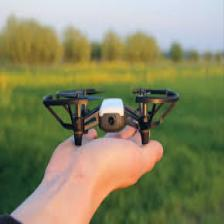drone: (43, 86, 178, 145)
